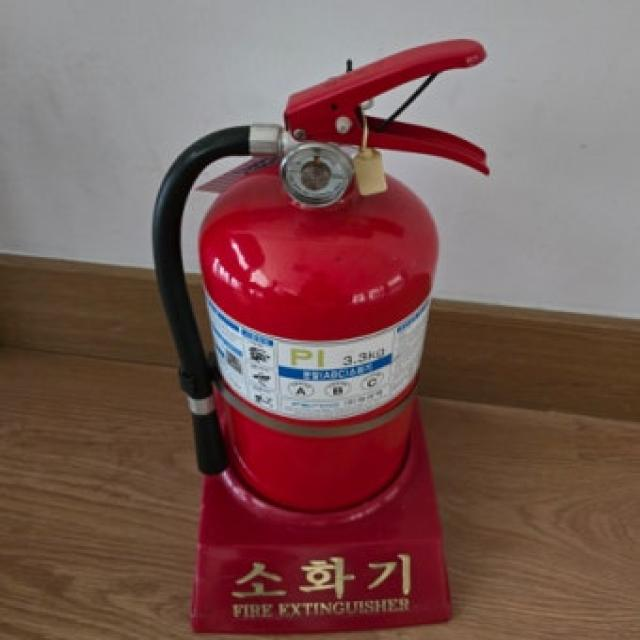pressure gauge: (281, 142, 353, 207)
